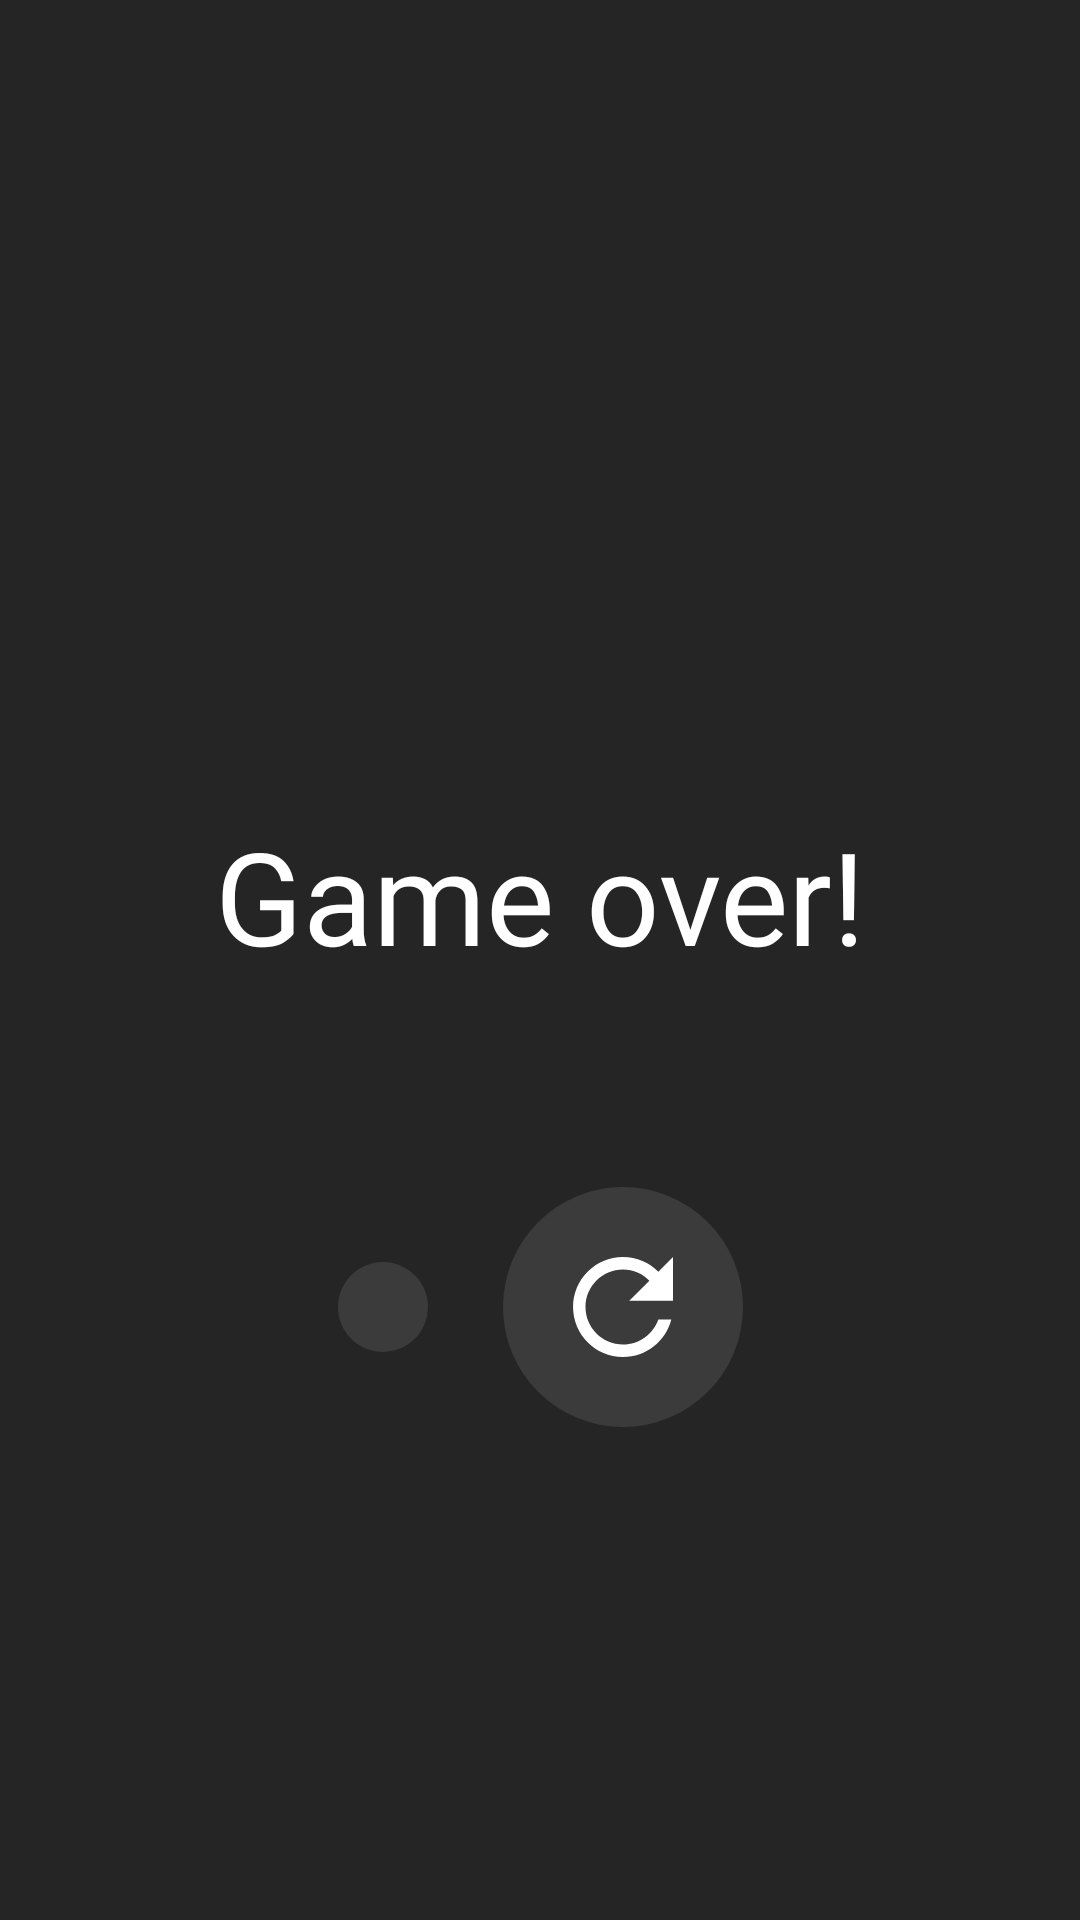

Icon click points for this 1080 × 1920 phone screenshot, format [x,y]:
Replay: [623,1307]
